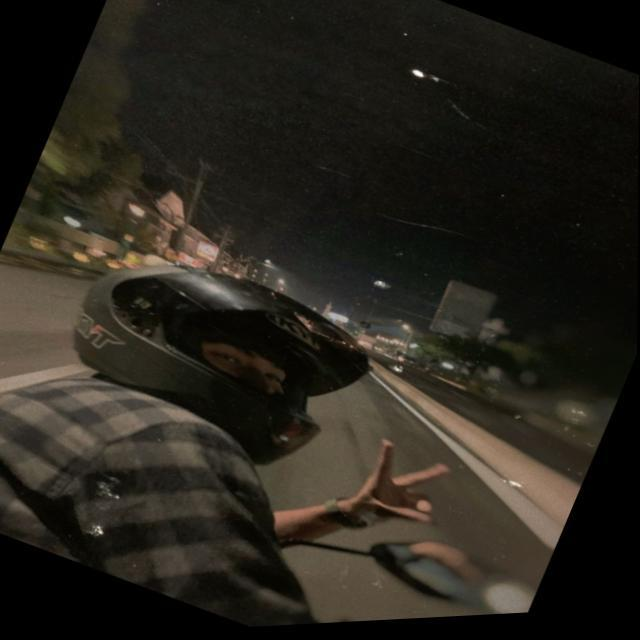Helmet: (71, 257, 373, 465)
